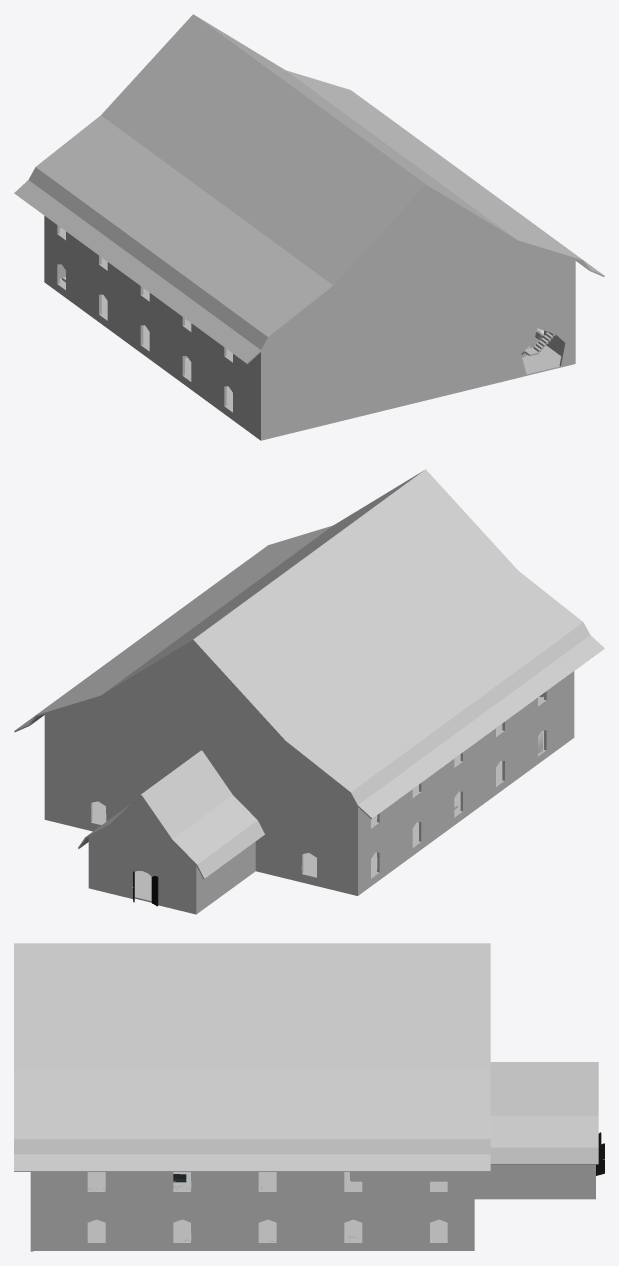
The model's file is IglesiaFINAL.fbx.
3 views of the same model, one above another, from view 1: azimuth 30°, elevation 25°; view 2: azimuth 150°, elevation 25°; view 3: azimuth 270°, elevation 25° (orthographic). The views are drawn at different scales.
Parts seen in each view (by area): view 1: Techo 4, Pared, Pared 2.001, Techo 5, Piso; view 2: Techo 4, Pared 7, Pared 2.001, Techo 5, Techo 3, Pared 8, Pared 5, Piso; view 3: Techo 5, Pared 2, Techo 2, Pared 4, Piso, pisio.
Part boxes in pixels (box(x1,y1,x2,y2)): Techo 4: box(14, 14, 426, 363); Pared: box(259, 186, 575, 440); Pared 2.001: box(45, 217, 259, 439); Techo 5: box(194, 15, 604, 276); Piso: box(59, 278, 561, 409); Techo 4: box(192, 469, 604, 818); Pared 7: box(44, 641, 358, 895); Pared 2.001: box(359, 672, 572, 894); Techo 5: box(14, 469, 425, 732); Techo 3: box(141, 751, 264, 879); Pared 8: box(88, 797, 197, 914); Pared 5: box(197, 842, 255, 913); Piso: box(92, 730, 543, 876); Techo 5: box(14, 943, 490, 1171); Pared 2: box(33, 1172, 471, 1250); Techo 2: box(490, 1062, 598, 1164); Pared 4: box(474, 1164, 593, 1199); Piso: box(87, 1172, 447, 1241); pisio: box(87, 1172, 447, 1190).
Bounding box in the file's own units: 3470 × 2118 × 4836.
